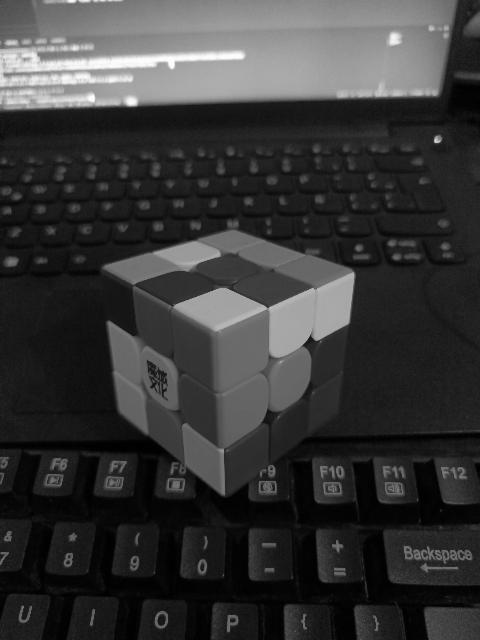rubik: (98, 227, 356, 497)
